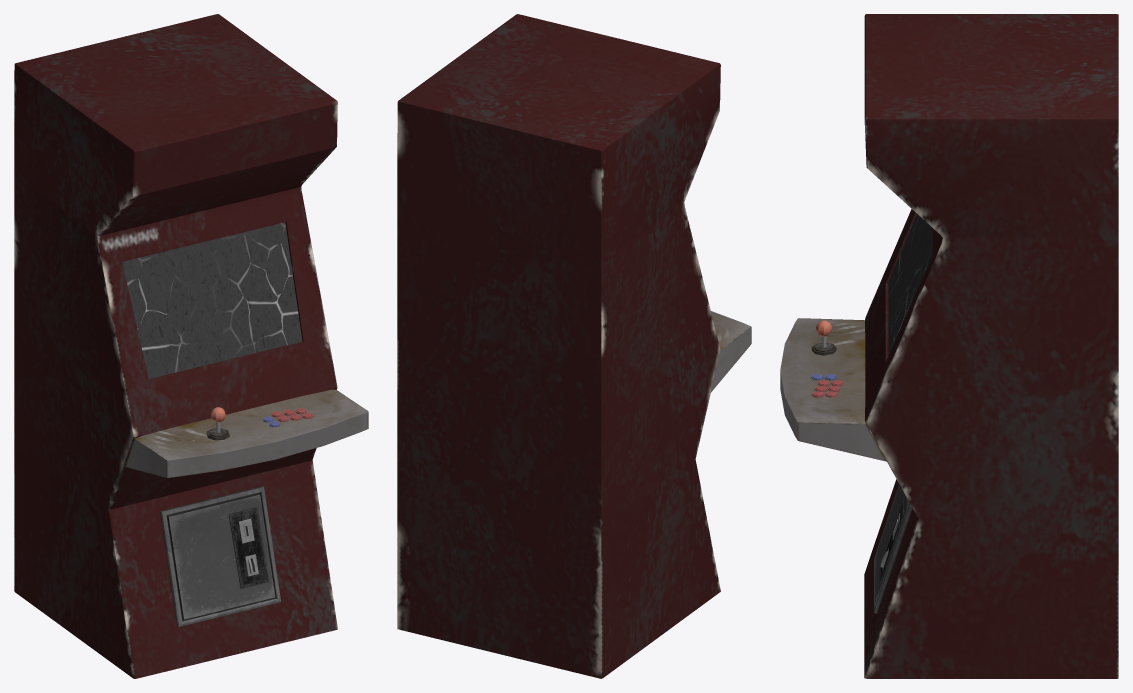
File: Arcade_Var3-red.fbx
3 renders of one model, left to right at view 1: azimuth 30°, elevation 25°; view 2: azimuth 150°, elevation 25°; view 3: azimuth 270°, elevation 25°, orthographic. The views are drawn at different scales.
Visible parts, largest first — view 1: Cabinet Variants; view 2: Cabinet Variants; view 3: Cabinet Variants.
Boxes of the visible parts, <box> form: Cabinet Variants: <box>14,14,368,678</box>; Cabinet Variants: <box>397,14,751,678</box>; Cabinet Variants: <box>780,14,1118,678</box>.
Size of the model in its own units: 129 by 317 by 174.
Materials: 1 (1 with a texture image).
